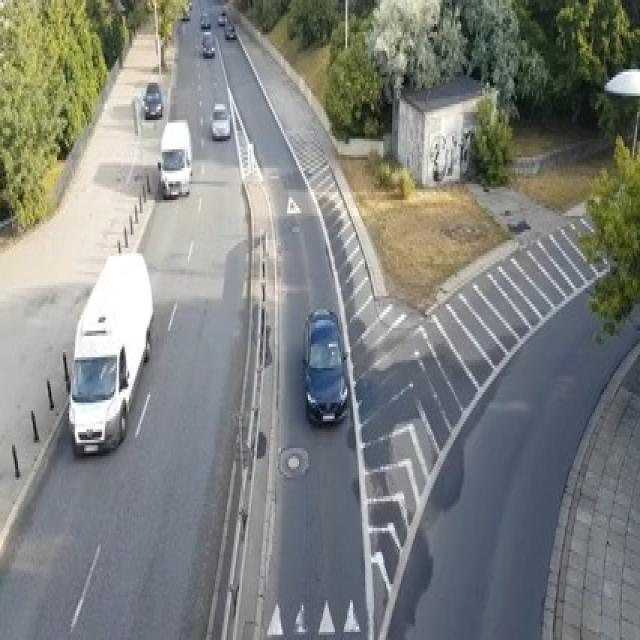bus: (65, 248, 153, 456)
car: (301, 307, 347, 424), (210, 101, 230, 139), (143, 83, 162, 117), (201, 32, 215, 56), (224, 22, 236, 38), (200, 11, 210, 29), (217, 8, 226, 24), (182, 8, 189, 19), (188, 0, 192, 8)
